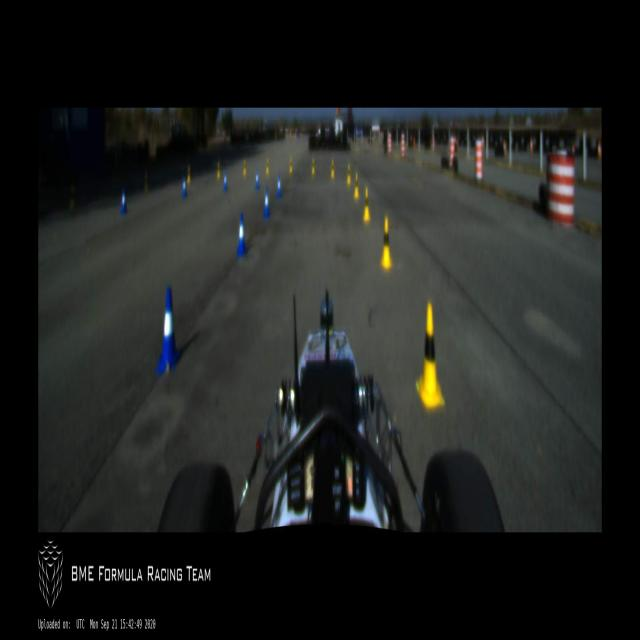blue_cone: (157, 288, 180, 372), (238, 212, 246, 256), (263, 188, 270, 217), (120, 188, 127, 213), (182, 176, 187, 197), (277, 175, 281, 198), (255, 169, 259, 190), (224, 172, 228, 192)
yellow_cone: (416, 305, 444, 407), (381, 217, 392, 268), (363, 188, 370, 222), (354, 173, 359, 199), (347, 163, 351, 184), (330, 160, 334, 178), (187, 165, 191, 183), (243, 160, 247, 175), (312, 158, 315, 176), (217, 161, 220, 178), (266, 159, 269, 174), (290, 158, 292, 174)
